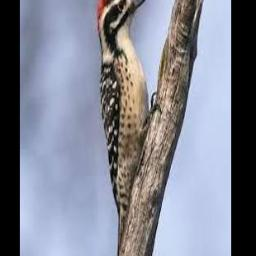Woodpecker: (95, 0, 161, 252)
